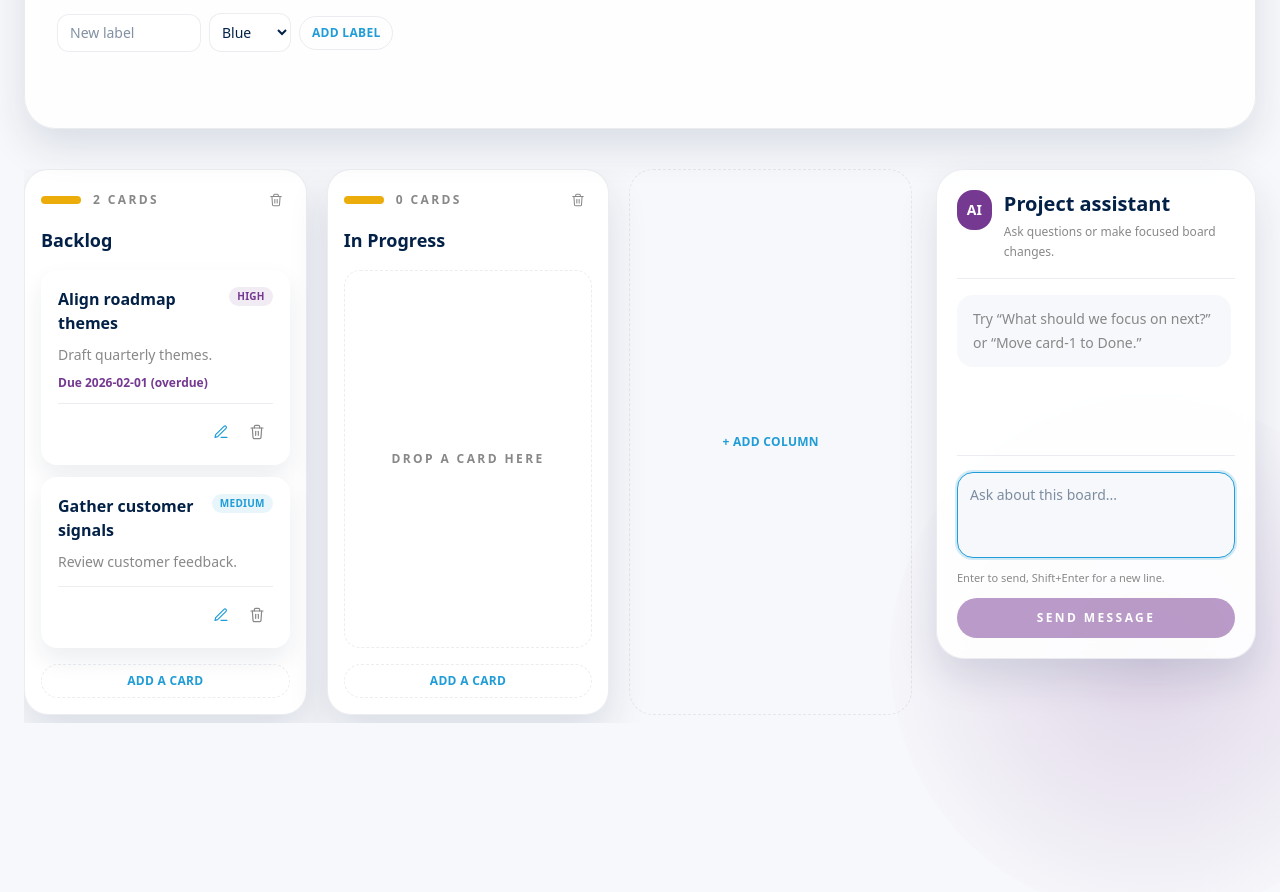
KanbanBoard › cancels adding a new column without submitting
(page scrolled)
Click the button "+ Add column" at x=771, y=442, box [646,186,895,698]
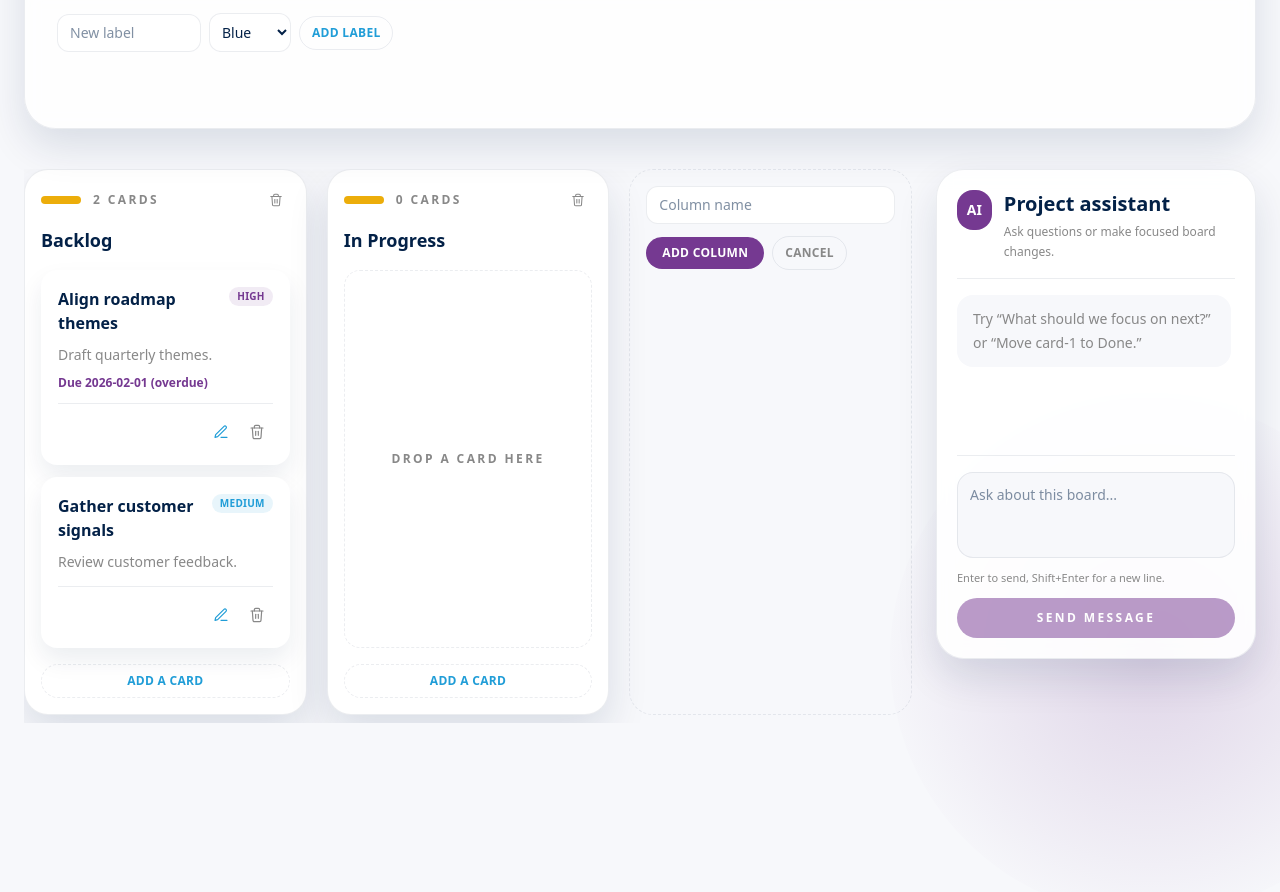
Type "Discarded" into the field named "New column name" at x=771, y=205, box [646,186,895,224]
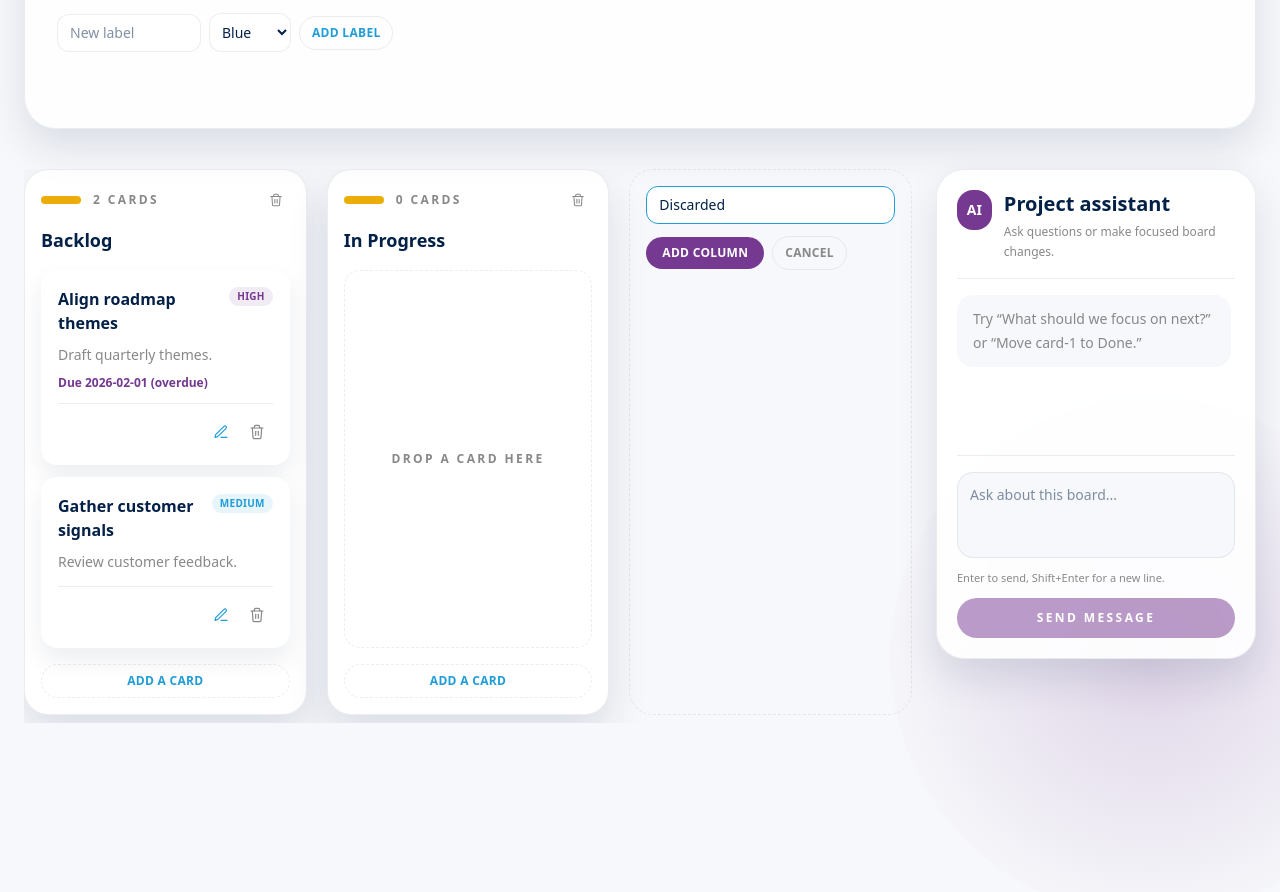
Click the button "Cancel" at x=810, y=253, box [772,236,847,270]
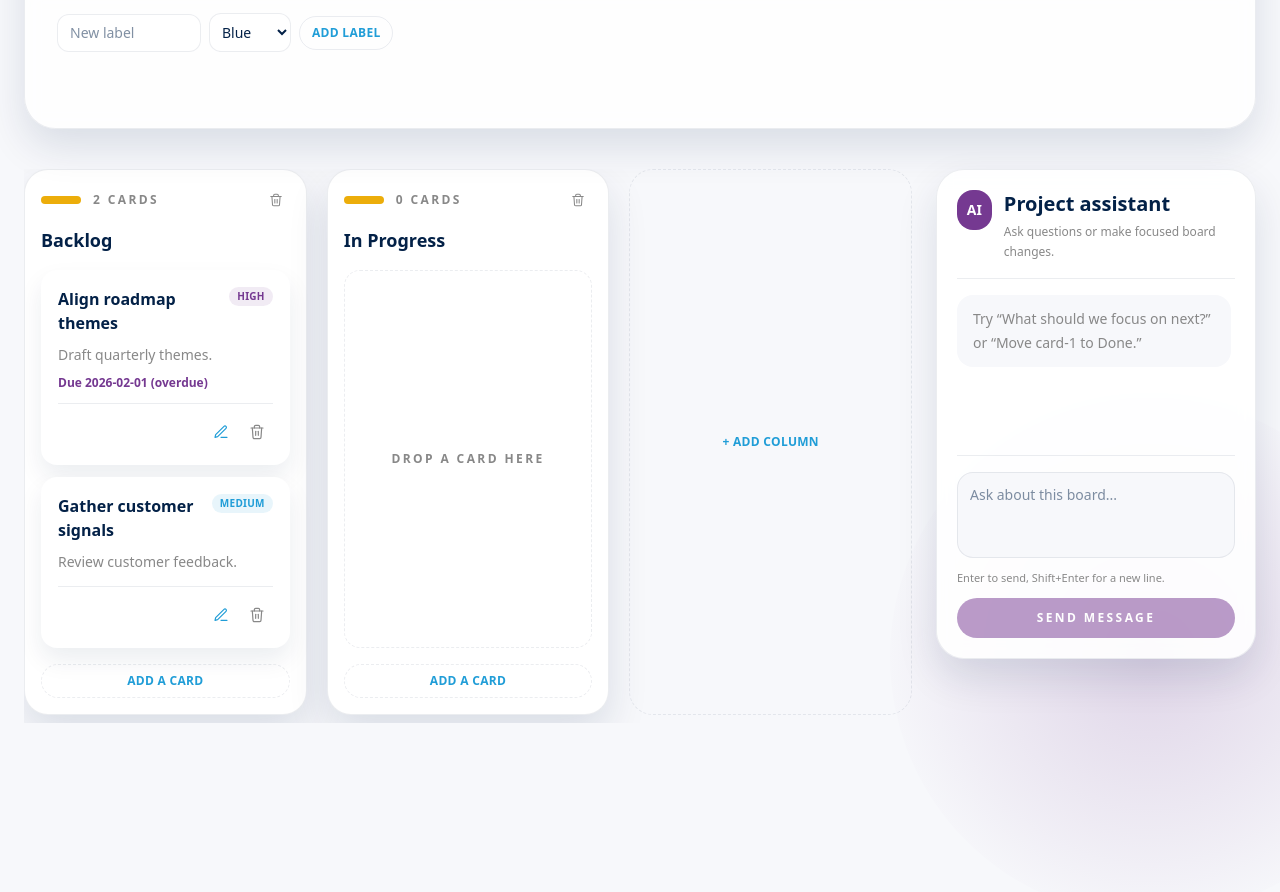
Result: the button "+ Add column" is shown at [646,186,895,698]
